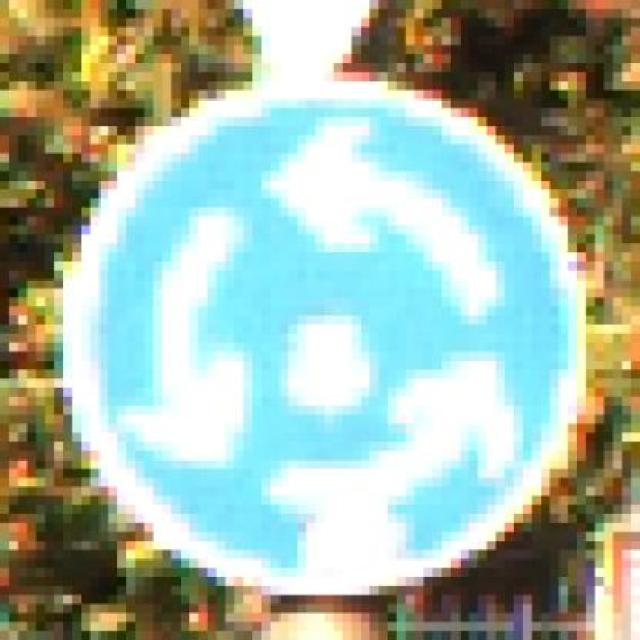Round-About: (36, 63, 613, 605)
